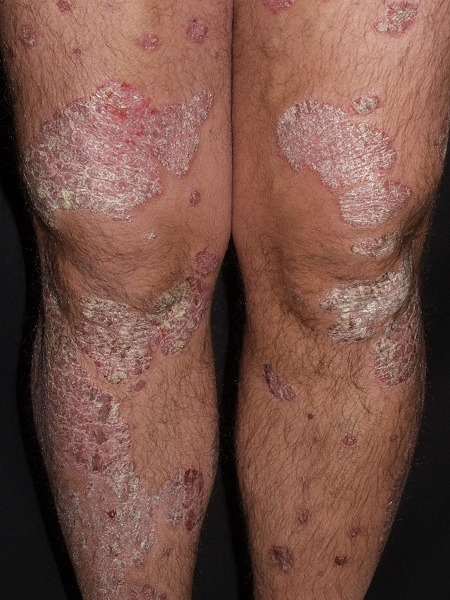Psoriasis: (33, 293, 192, 600), (21, 75, 215, 225), (275, 86, 406, 227), (69, 270, 212, 377), (316, 253, 423, 342), (381, 288, 423, 390), (372, 0, 412, 33)
